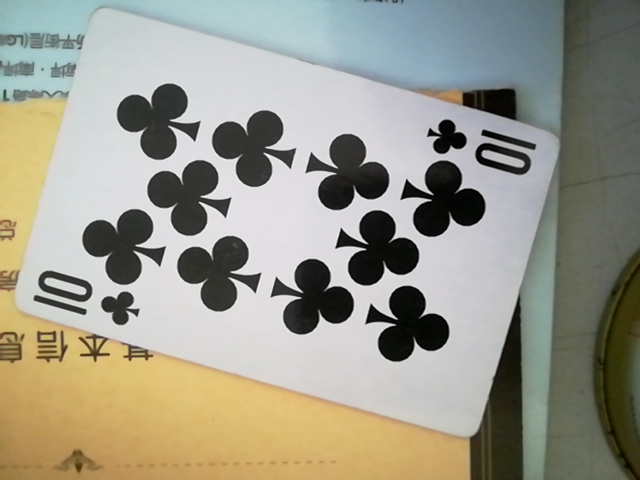mh 10: (7, 15, 566, 441)
